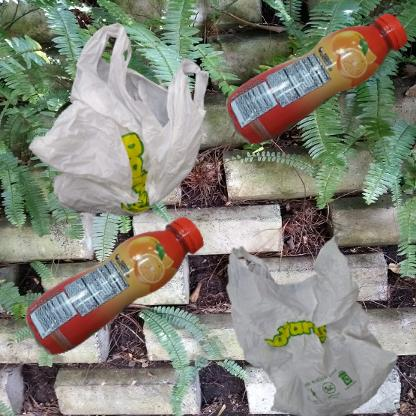bolsa: (10, 10, 275, 296), (213, 213, 416, 416)
botella: (10, 213, 256, 381), (213, 10, 416, 165)
